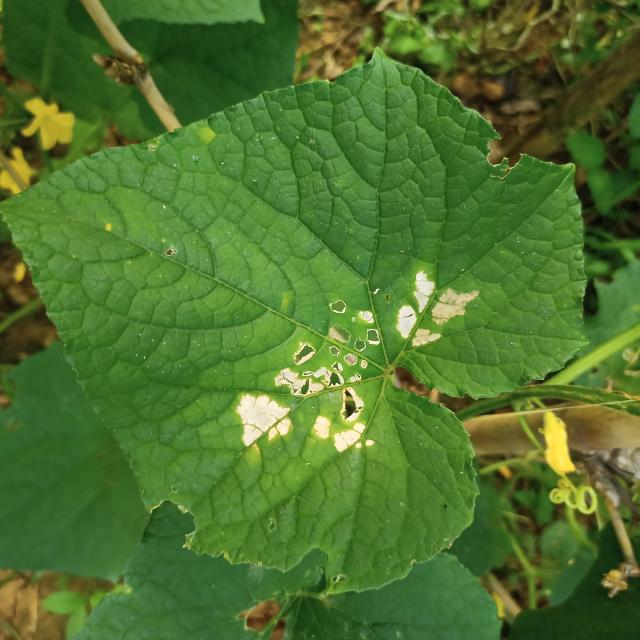disease_cucumber: (230, 295, 388, 461), (389, 268, 482, 354)
